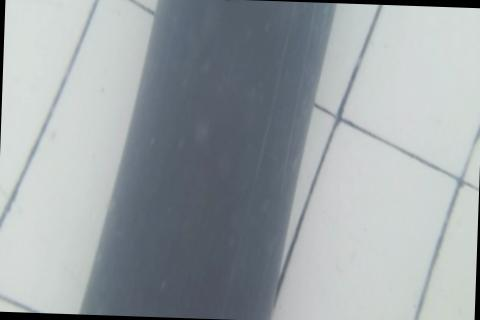kebocoran: (214, 0, 255, 3)
